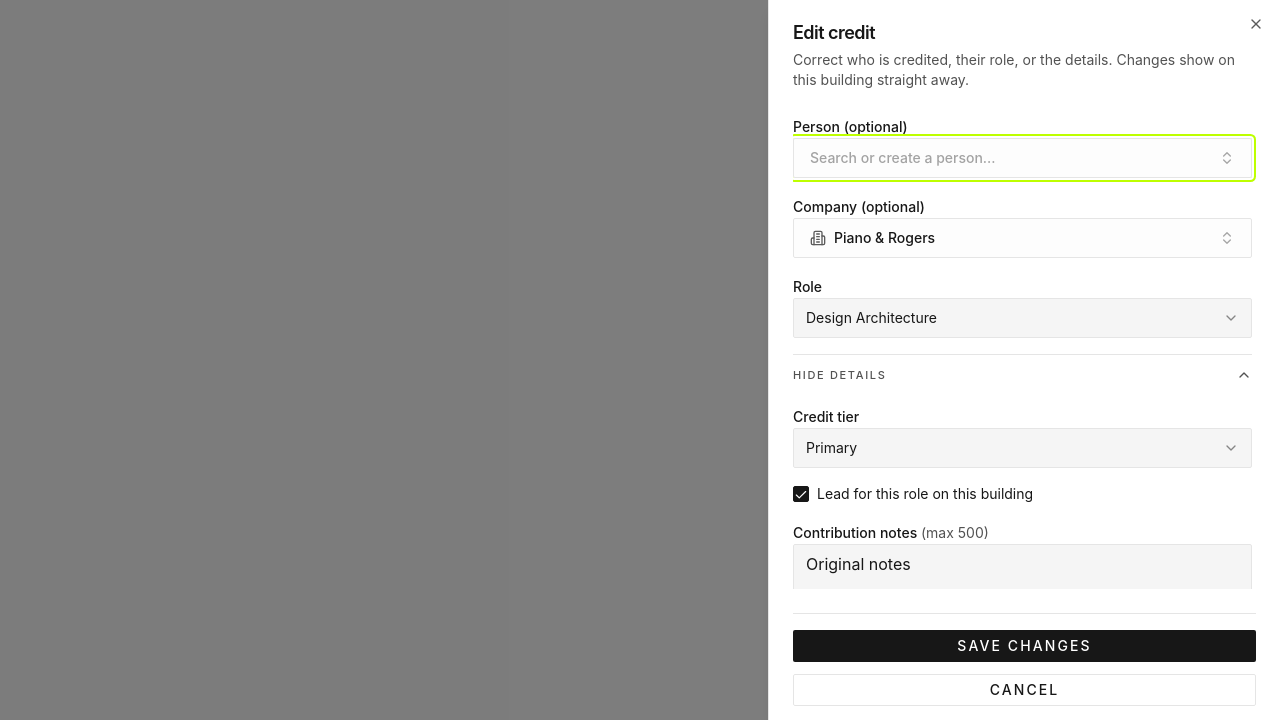
EditCreditForm › surfaces an API failure and keeps the drawer open
The width and height of the screenshot is (1280, 720).
Click the button "Save changes" at (1024, 646), box [793,630,1256,662]
(page scrolled)
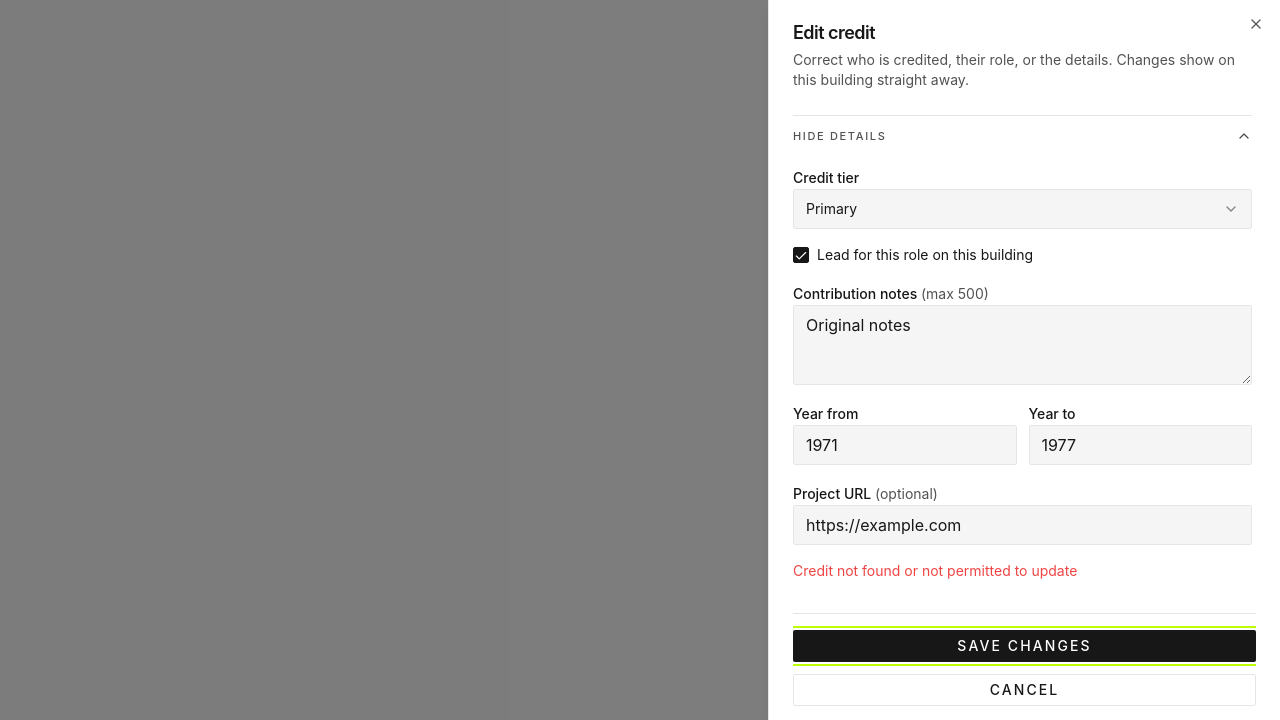
Expected: the text "Credit not found or not permitted to update" is shown, [793,562,1077,578]
